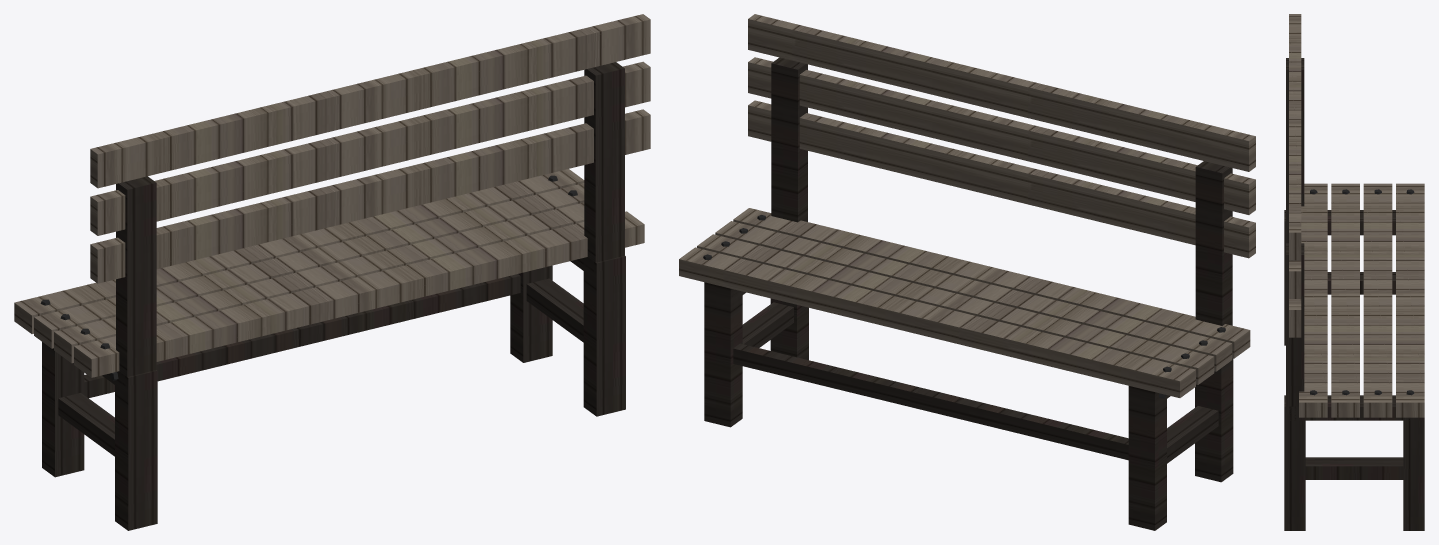
Rendered from bench_01.glb.
The picture shows the model from 3 angles, left to right: view 1: azimuth 30°, elevation 25°; view 2: azimuth 150°, elevation 25°; view 3: azimuth 270°, elevation 25°; orthographic projection. The views are drawn at different scales.
Visible parts, largest first — view 1: bench_01; view 2: bench_01; view 3: bench_01.
Part boxes in pixels (bbox=[...]): bench_01: bbox=[14, 14, 650, 530]; bench_01: bbox=[679, 14, 1255, 530]; bench_01: bbox=[1284, 14, 1424, 530].
Bounding box in the file's own units: 1.7 × 1.12 × 0.46.
3 materials, 3 textured.
